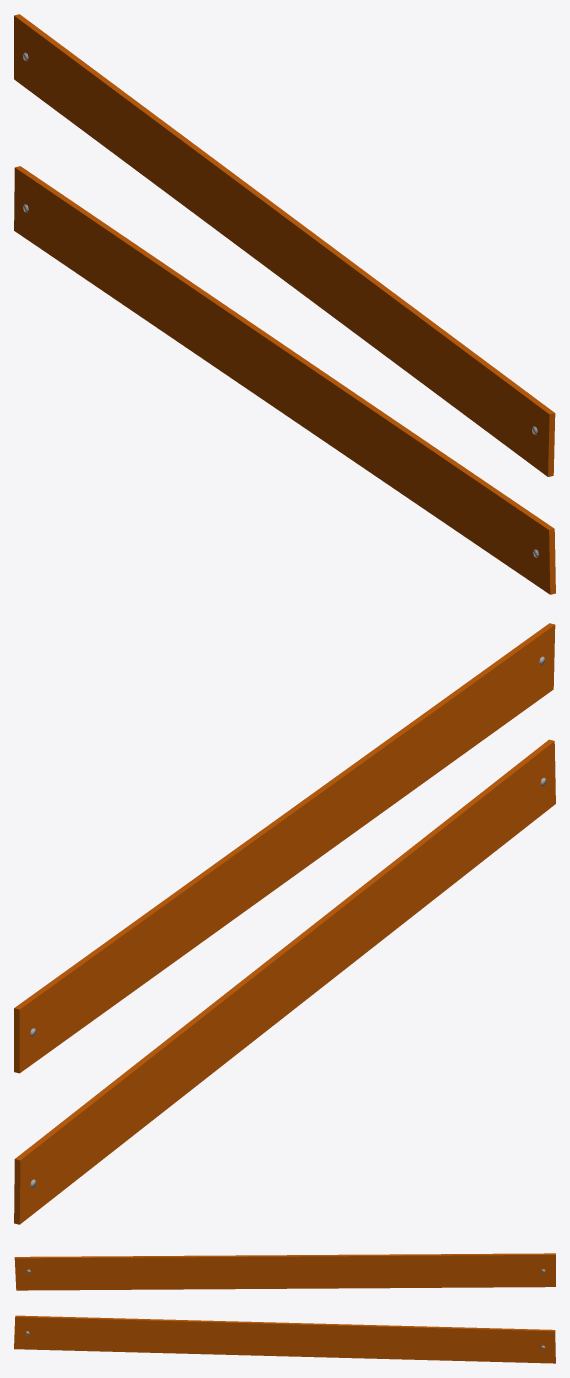
The model's file is FenceConnector2.fbx.
3 renders of one model, top to bottom at view 1: azimuth 30°, elevation 25°; view 2: azimuth 150°, elevation 25°; view 3: azimuth 270°, elevation 25°, orthographic. The views are drawn at different scales.
Parts seen in each view (by area): view 1: ConnectorPlanks2; view 2: ConnectorPlanks2; view 3: ConnectorPlanks2.
Boxes of the visible parts, left/top/right/bottom form: ConnectorPlanks2: left=14, top=14, right=555, bottom=594; ConnectorPlanks2: left=14, top=623, right=555, bottom=1224; ConnectorPlanks2: left=14, top=1253, right=555, bottom=1363.
Bounding box in the file's own units: 11.3 × 268 × 1211.
